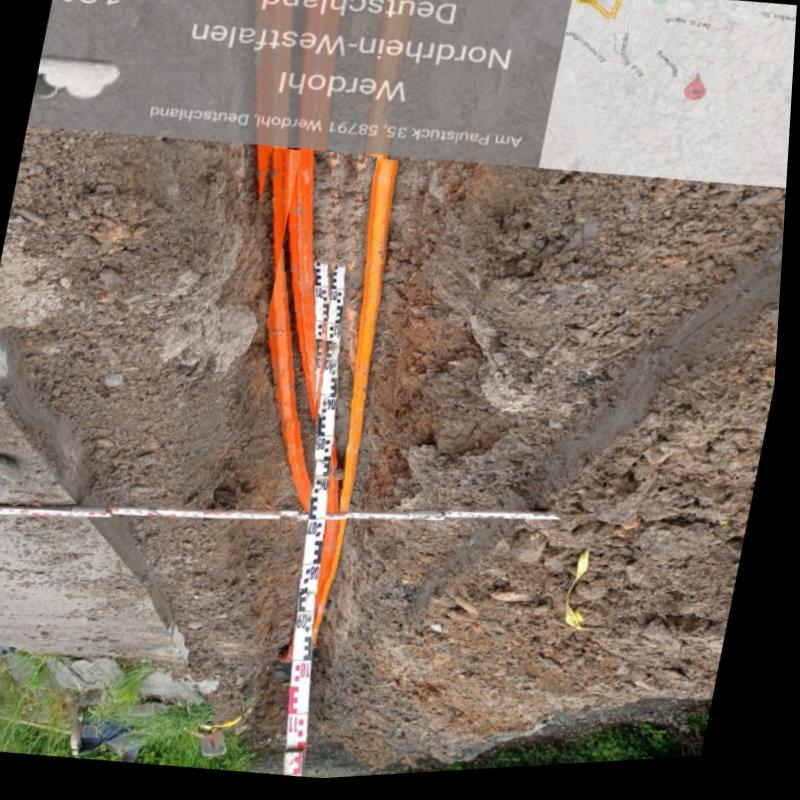Orang-Speednetrohrchen: (320, 163, 396, 650), (271, 151, 318, 514), (293, 153, 319, 427)
